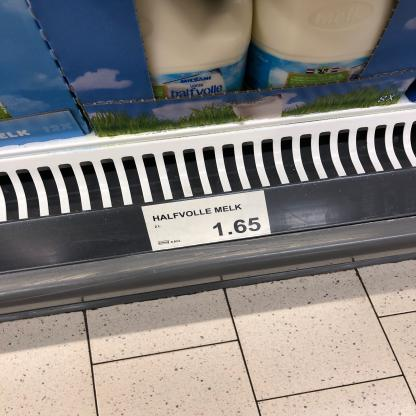prtg: (142, 191, 272, 253)
